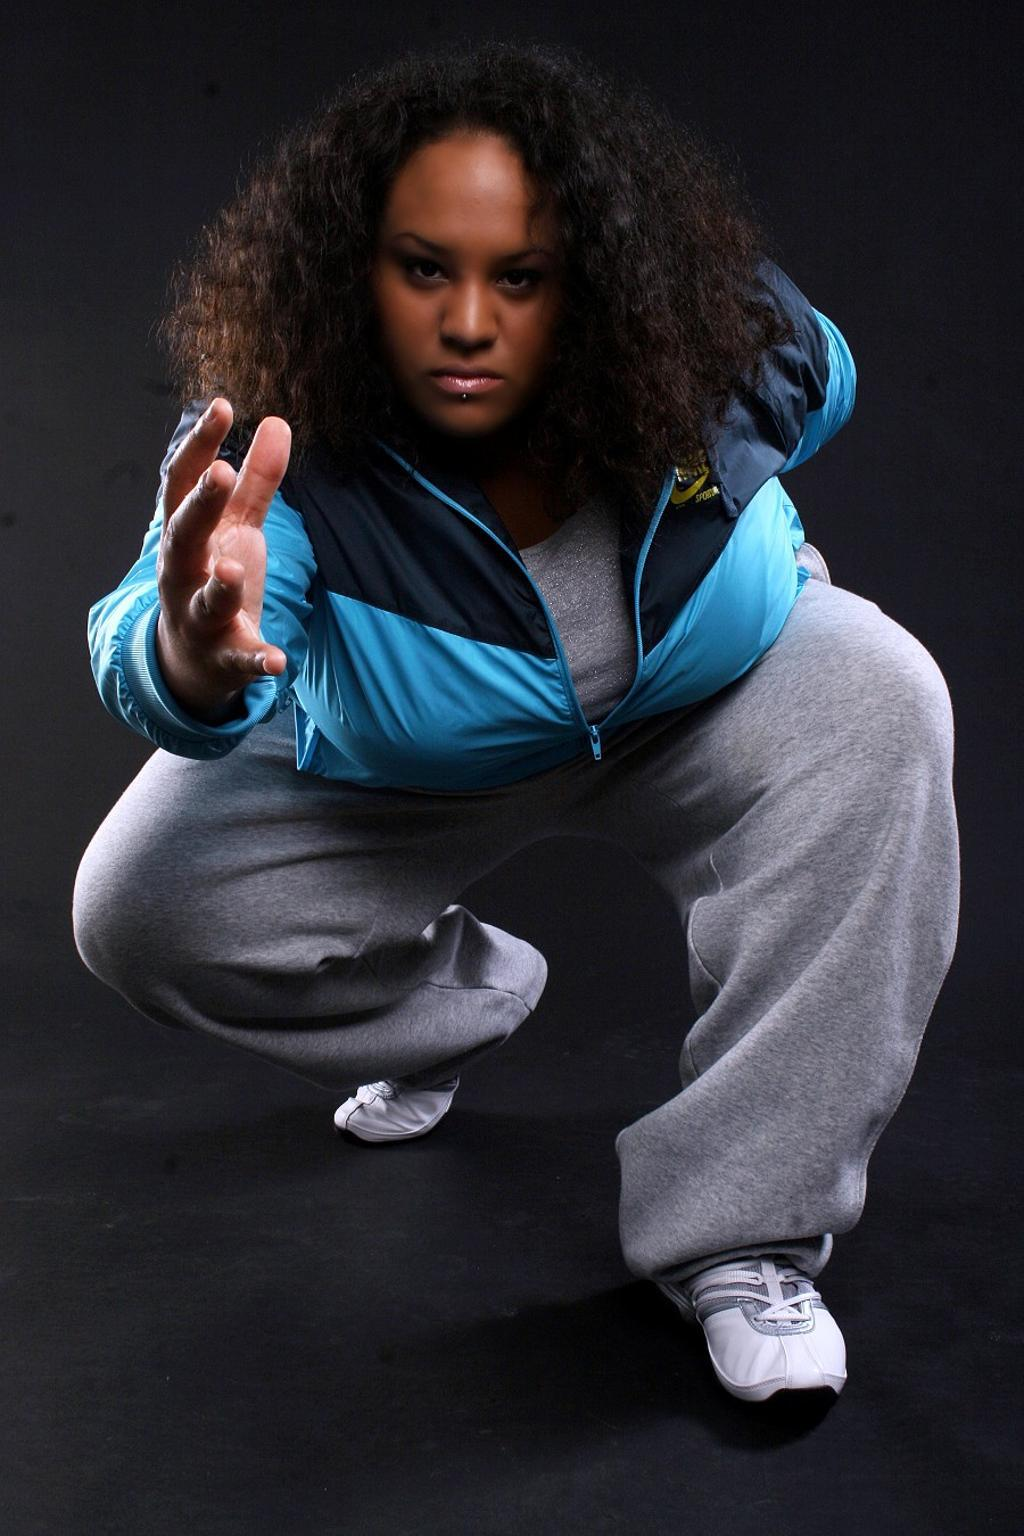face: (385, 133, 559, 448)
